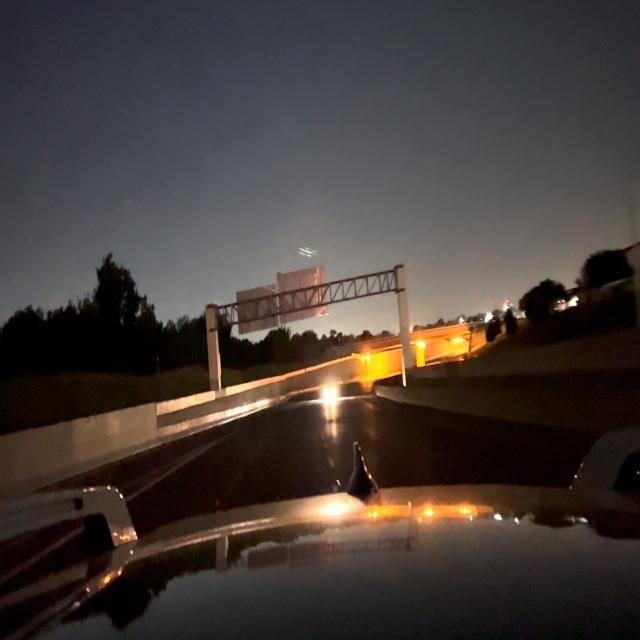back-of-sign: (279, 267, 330, 325), (235, 285, 278, 337)
